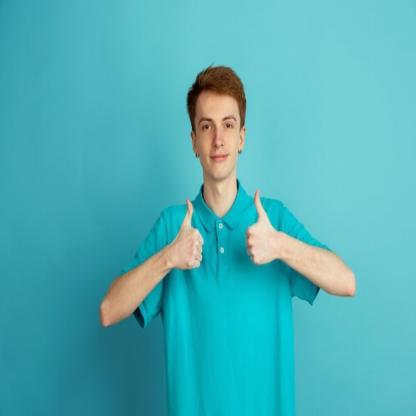thumb_up: (246, 188, 282, 267), (170, 196, 205, 272)
